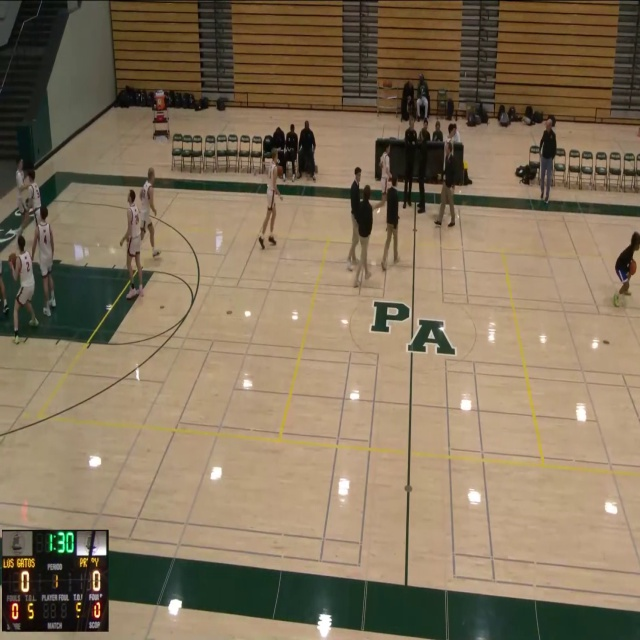Basketball: (628, 260, 637, 274)
